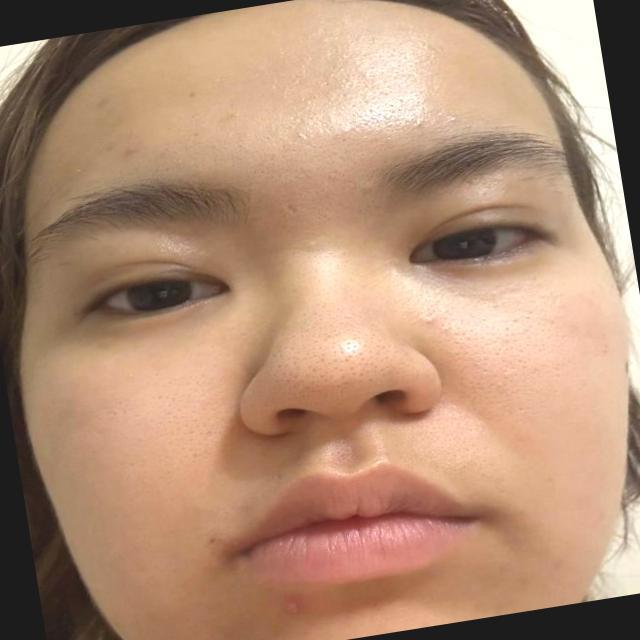acne: (413, 116, 436, 133), (444, 110, 463, 124), (437, 322, 457, 333)
blackhead: (306, 340, 376, 395), (281, 175, 355, 225), (375, 339, 417, 386), (266, 359, 305, 402), (222, 107, 243, 123)
nodules: (274, 594, 316, 625), (121, 141, 147, 159)
